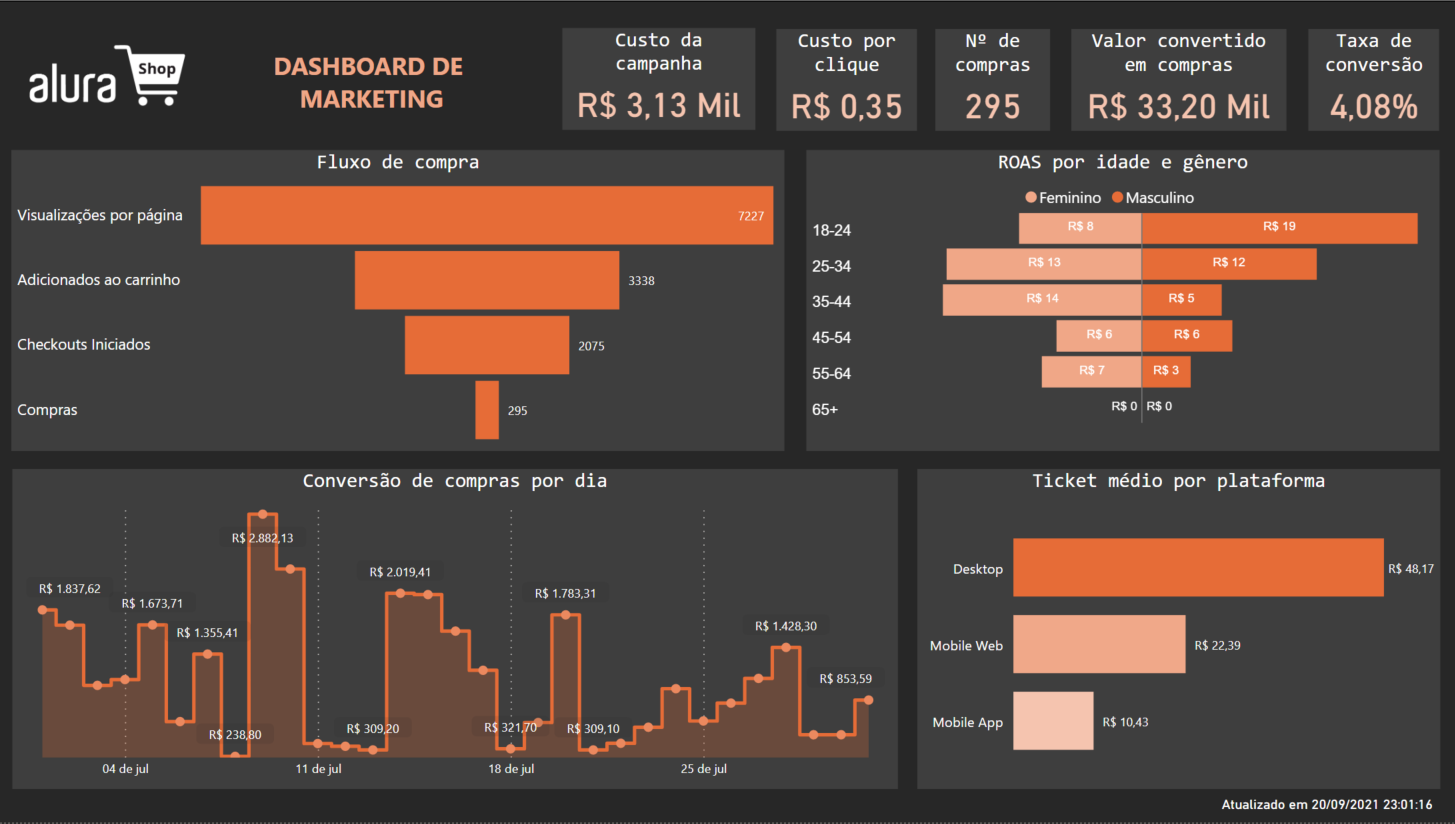

Layout of this report page (visuals, bound fields, positions):
{"tool":"powerbi","page":{"name":"Página 1","canvas":[1280,720],"ordinal":0},"visuals":[{"type":"card","title":"Nº de compras","fields":{"Values":["Sum(IdadeGenero.Compras)"]},"box":[822.6,24.6,100.9,89.5],"z":0},{"type":"TornadoChart1452517688218","title":"ROAS por idade e gênero","fields":{"Category":["IdadeGenero.Idade"],"Values":["Medidas.ROAS"],"Series":["IdadeGenero.Gênero"]},"box":[709.8,130.2,555.3,264.2],"z":1000},{"type":"funnel","title":"Fluxo de compra","fields":{"Y":["Sum(IdadeGenero.Visualizações por página)","Sum(IdadeGenero.Adicionados ao carrinho)","Sum(IdadeGenero.Checkouts Iniciados)","Sum(IdadeGenero.Compras)"]},"box":[12.1,130.2,678.1,264.2],"z":2000},{"type":"card","title":"Taxa de conversão","fields":{"Values":["Medidas.Taxa de conversão"]},"box":[1149.7,24.6,114.9,89.5],"z":3000},{"type":"clusteredBarChart","title":"Ticket médio por plataforma","fields":{"Y":["Medidas.Ticket medio"],"Category":["Dispositivos.Plataforma do dispositivo","Dispositivos.Plataforma"]},"box":[806.5,410.2,458.6,280.9],"z":4000},{"type":"card","title":"Custo da campanha","fields":{"Values":["Sum(IdadeGenero.Quantia gasta (BRL))"]},"box":[495.5,23.7,169.3,89.5],"z":5000},{"type":"card","title":"Custo por clique","fields":{"Values":["Medidas.Custo por clique"]},"box":[683.2,24.6,123.7,89.5],"z":6000},{"type":"areaChart","title":"Conversão de compras por dia","fields":{"Y":["Sum(IdadeGenero.Valor de conversão de compras)"],"Category":["IdadeGenero.Dia"]},"box":[13,410.2,776.7,280.9],"z":7000},{"type":"image","box":[22.8,24.6,147.3,81.6],"z":8000},{"type":"card","fields":{"Values":["Medidas.Atualizacao"]},"box":[1058.5,691.1,214.9,28.9],"z":9000},{"type":"card","title":"Valor convertido em compras","fields":{"Values":["Sum(IdadeGenero.Valor de conversão de compras)"]},"box":[941.9,24.6,188.6,89.5],"z":10000},{"type":"textbox","box":[160.5,36,335,73.7],"z":11000}]}

Visuals, with their boxes in screenshot pixels (x1, y1, x2, y2), scaled from the page's 1280x720 canvas onto the 1455x824 screenshot:
"Nº de compras" card: 935:28:1050:131
"ROAS por idade e gênero" TornadoChart1452517688218: 807:149:1438:451
"Fluxo de compra" funnel: 14:149:785:451
"Taxa de conversão" card: 1307:28:1437:131
"Ticket médio por plataforma" clusteredBarChart: 917:469:1438:791
"Custo da campanha" card: 563:27:756:130
"Custo por clique" card: 777:28:917:131
"Conversão de compras por dia" areaChart: 15:469:898:791
image: 26:28:193:122
card - Medidas.Atualizacao: 1203:791:1447:823
"Valor convertido em compras" card: 1071:28:1285:131
textbox: 182:41:563:126
